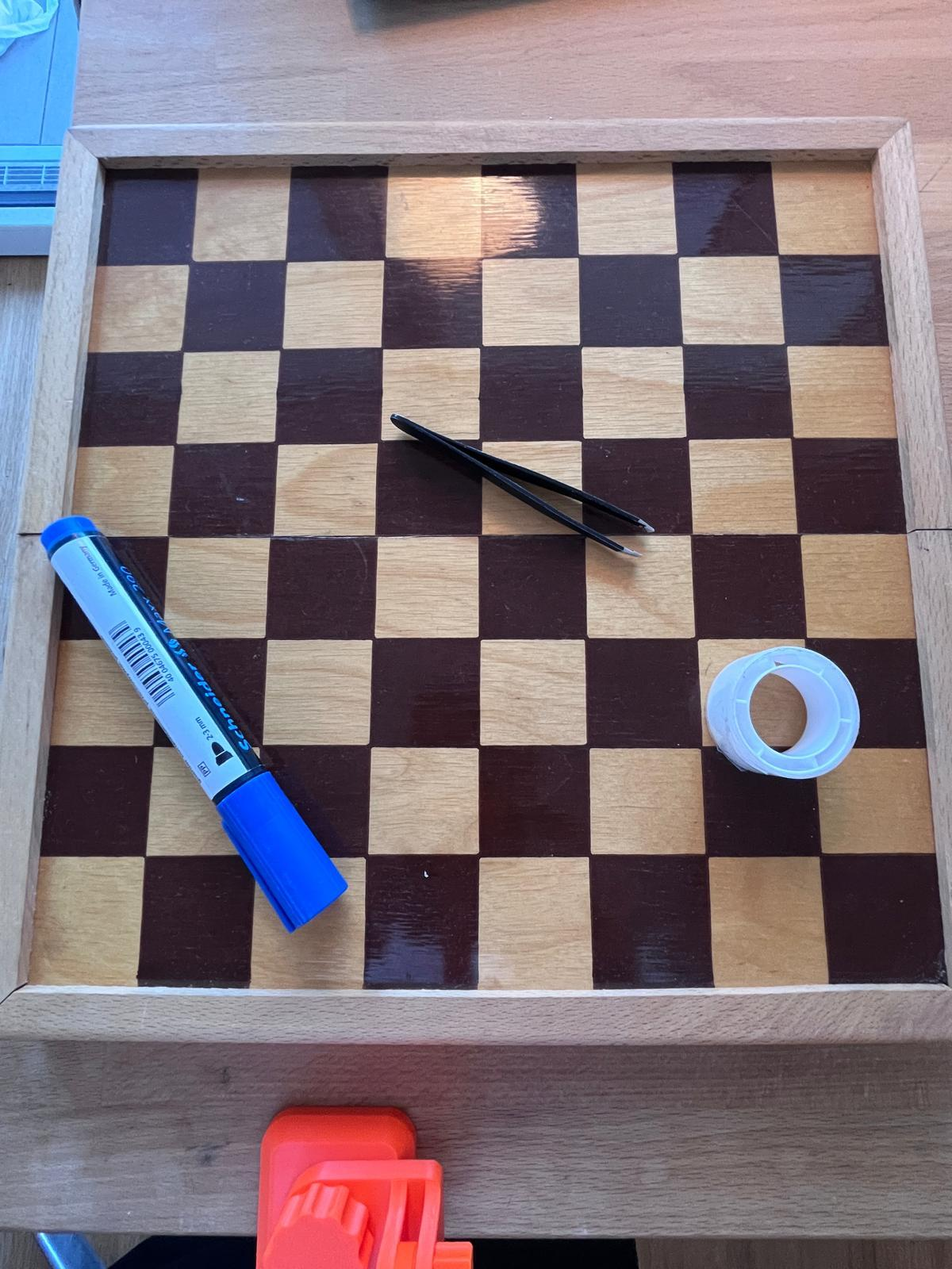marker: (35, 520, 347, 930)
tape: (706, 636, 858, 779)
tweezer: (386, 411, 663, 558)
